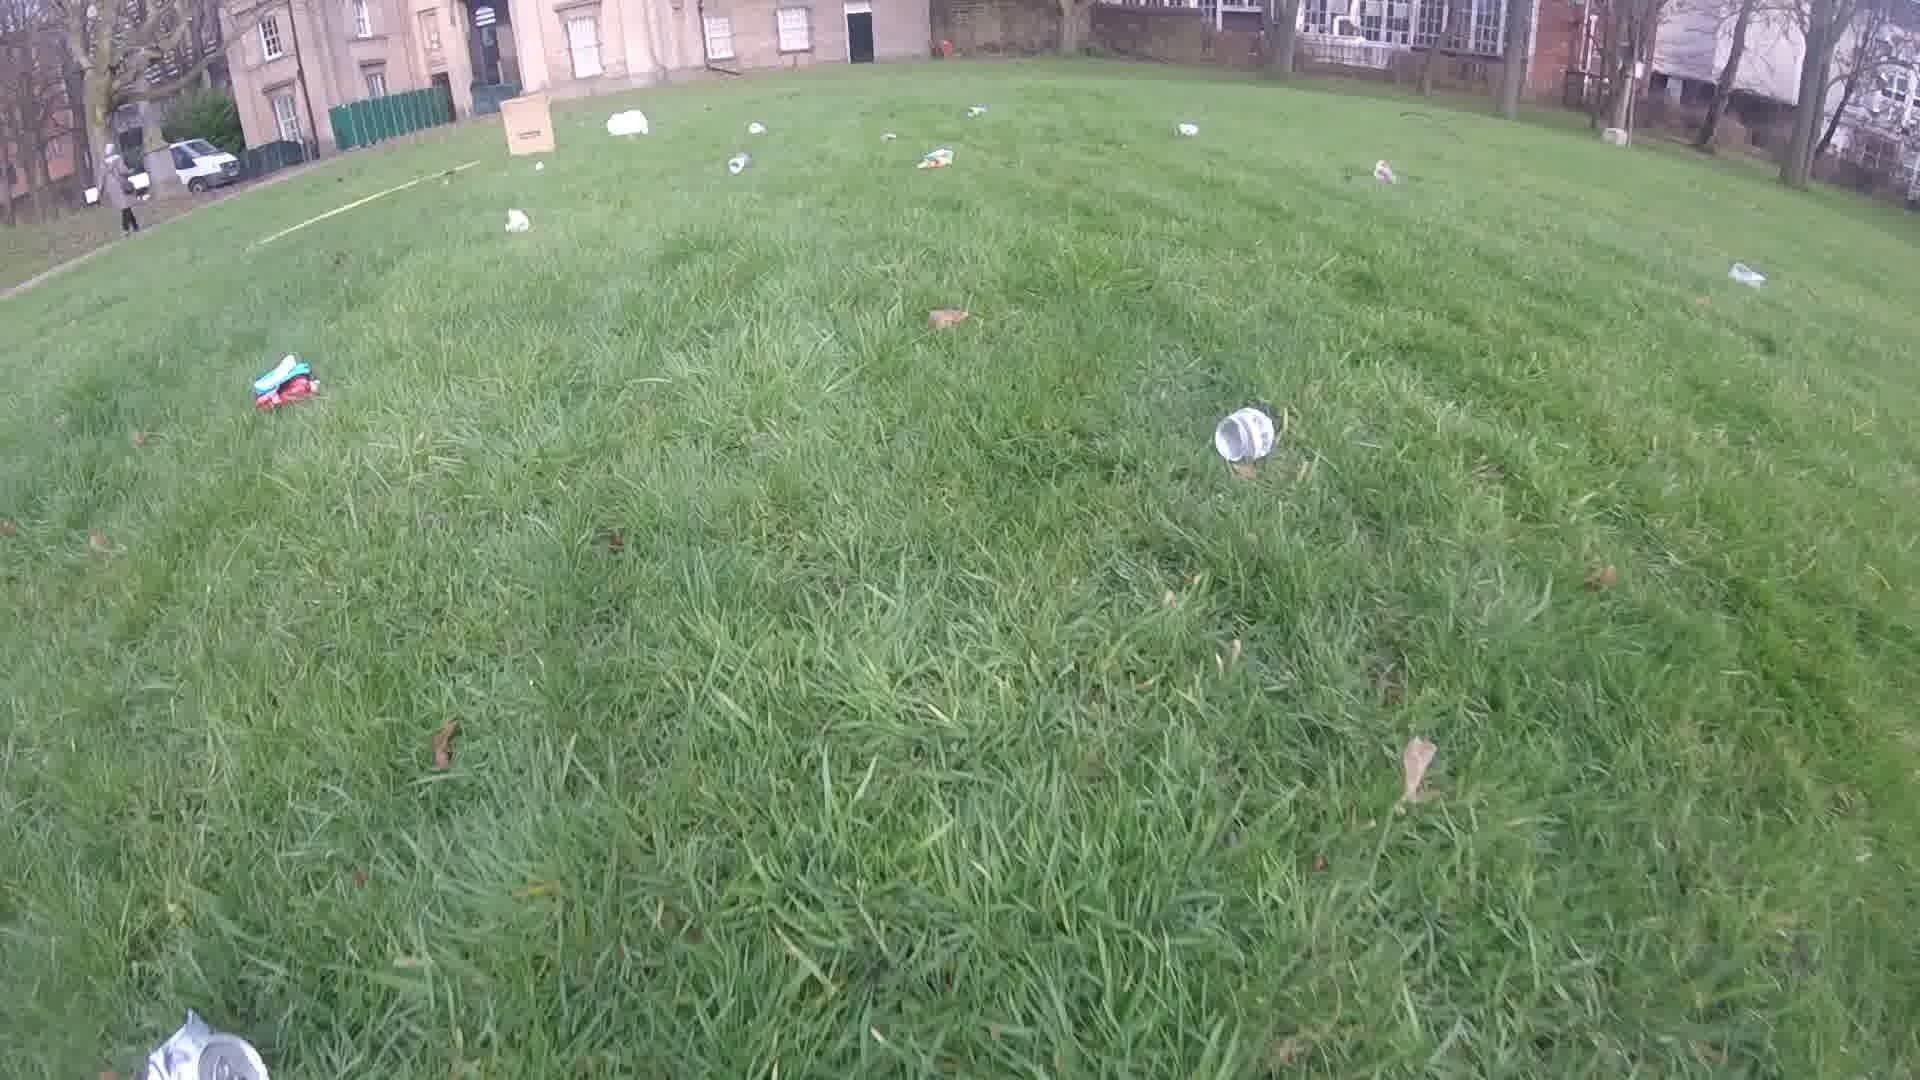litter: (142, 1007, 274, 1080), (497, 92, 558, 154), (252, 363, 318, 415), (1212, 407, 1274, 463), (1726, 262, 1764, 291), (603, 111, 647, 135), (915, 148, 953, 167), (1371, 158, 1399, 185), (502, 206, 527, 231), (724, 153, 748, 173), (1174, 123, 1200, 137), (967, 105, 982, 119), (746, 121, 761, 135), (533, 160, 545, 171), (881, 131, 891, 141)
